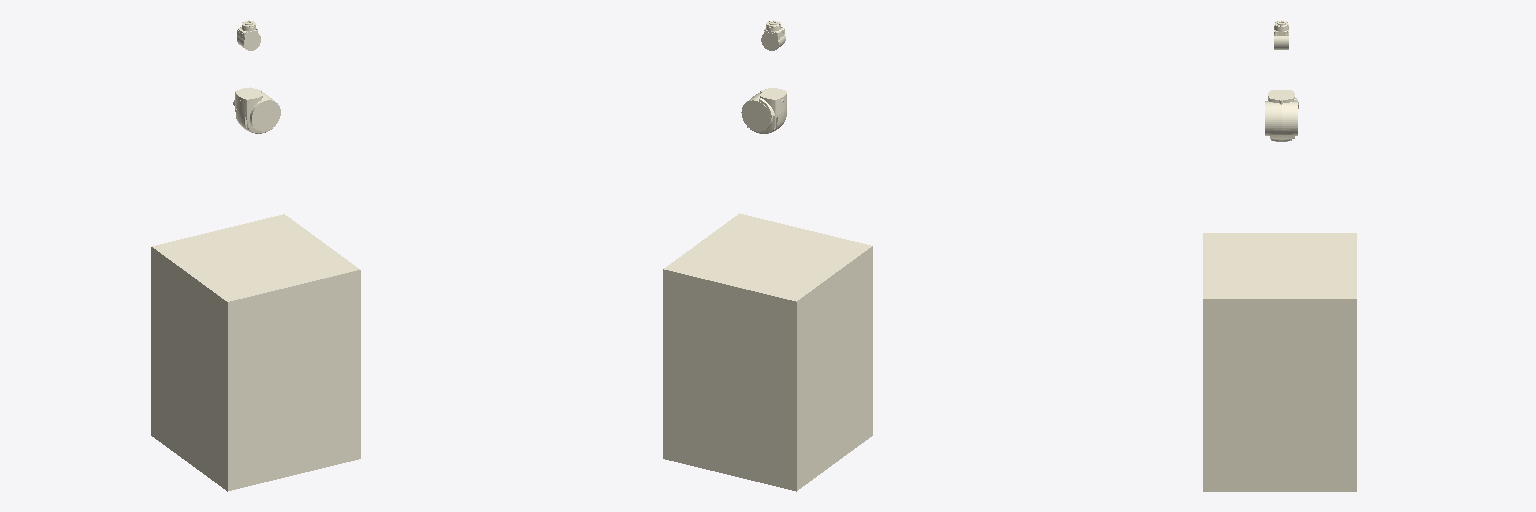
robot.urdf — rv7fr:
<?xml version="1.0" encoding="utf-8"?>
<!-- =================================================================================== -->
<!-- |    This document was autogenerated by xacro from rv7fr-dh-zero-table.urdf.xacro | -->
<!-- |    EDITING THIS FILE BY HAND IS NOT RECOMMENDED                                 | -->
<!-- =================================================================================== -->
<!--[ ] Add Gazebo plugin for ros control-->
<!--[ ] Add sensor model plugin -->
<!--[ ] Check the correct limits efforts
     [119.36611817, 107.16168698,  50.92959239,  17.00171377, 12.7323981 ,   3.97887346] -->
<!--[DONE] Check if the transmission matched the joint number -->
<robot name="rv7fr">
  <material name="white">
    <color rgba="1.0 0.980392156863 0.898039215686 1"/>
  </material>
  <material name="silver">
    <color rgba="0.61568627451 0.839215686275 0.941176470588 1"/>
  </material>
  <!--Mathematical constant
  The mathematical constant and 
  the mathematical expression in XACRO 
  URDF use Python. This preclude the
  mathematical expression
  <[End] Mathematical constant-->
  <link name="world"/>
  <link name="table">
    <visual>
      <geometry>
        <mesh filename="package://melfa_description/mesh/rv7fr/rv7fr_table.stl" scale="0.001 0.001 0.001"/>
      </geometry>
      <origin rpy="0 0 0" xyz="0 0 0"/>
      <material name="white"/>
    </visual>
    <collision>
      <origin rpy="0 0 0" xyz="0 0 0"/>
      <geometry>
        <mesh filename="package://melfa_description/mesh/rv7fr/rv7fr_table.stl" scale="0.001 0.001 0.001"/>
      </geometry>
    </collision>
    <!--inertial-->
    <!--xacro:include filename="rv7fr_inertia/base_inertial.urdf.xacro"/-->
    <!--inertial-->
  </link>
  <joint name="flooring" type="fixed">
    <parent link="world"/>
    <child link="table"/>
  </joint>
  <link name="base">
    <visual>
      <geometry>
        <mesh filename="package://melfa_description/mesh/rv7fr/dh_base.stl" scale="0.001 0.001 0.001"/>
      </geometry>
      <origin rpy="0 0 0" xyz="0 0 0"/>
      <material name="white"/>
    </visual>
    <collision>
      <origin rpy="0 0 0" xyz="0 0 0"/>
      <geometry>
        <mesh filename="package://melfa_description/mesh/rv7fr/dh_base.stl" scale="0.001 0.001 0.001"/>
      </geometry>
    </collision>
    <inertial>
      <!--origin
        xyz="-0.11257 -4.1589E-05 0.057533"
        rpy="0 0 0" /-->
      <!-- I am using the density of Alumide (1.36g/cm^3) for this -->
      <!-- The volume of the mesh is 13038.131 cm^3 -->
      <mass value="17.73185816"/>
      <inertia ixx="103.908878848" ixy="6.363055616" ixz="-6.148561408" iyy="139.111661568" iyz="2.115191296" izz="132.604526592"/>
    </inertial>
    <!--inertial-->
  </link>
  <!--Fixed joint-->
  <joint name="joint_w" type="fixed">
    <parent link="table"/>
    <child link="base"/>
    <origin rpy="0 0 0" xyz="0 0 0.955"/>
  </joint>
  <link name="link1">
    <visual>
      <origin rpy="0 0 0" xyz="0 0 0"/>
      <geometry>
        <mesh filename="package://melfa_description/mesh/rv7fr/dh_link1.stl" scale="0.001 0.001 0.001"/>
      </geometry>
      <material name="white"/>
    </visual>
    <inertial>
      <!--origin
        xyz="-0.11257 -4.1589E-05 0.057533"
        rpy="0 0 0" /-->
      <!-- I am using the density of Alumide (1.36g/cm^3) for this -->
      <!-- The volume of the mesh is 6013.742500000 cm^3 -->
      <mass value="8.1786898"/>
      <inertia ixx="90.376159232" ixy="0.016287799" ixz="-1.10389888" iyy="52.040425472" iyz="0.255685056" izz="66.680070144"/>
    </inertial>
    <!--inertial-->
    <collision>
      <origin rpy="0 0 0" xyz="0 0 0"/>
      <geometry>
        <mesh filename="package://melfa_description/mesh/rv7fr/dh_link1.stl" scale="0.001 0.001 0.001"/>
      </geometry>
    </collision>
  </link>
  <joint name="joint1" type="revolute">
    <parent link="base"/>
    <child link="link1"/>
    <origin rpy="0.0 0.0 0.0" xyz="0 0 0.225"/>
    <axis xyz="0 0 1"/>
    <!--Effort in this context is in N.m (revolute joint)-->
    <limit effort="119.36611817" lower="-4.18879020479" upper="4.18879020479" velocity="6.28318530718"/>
    <dynamics damping="0" friction="0"/>
  </joint>
  <transmission name="trans1">
    <type>transmission_interface/SimpleTransmission</type>
    <joint name="joint1">
      <hardwareInterface>PositionJointInterface</hardwareInterface>
    </joint>
    <actuator name="motor1">
      <hardwareInterface>PositionJointInterface</hardwareInterface>
      <mechanicalReduction>1</mechanicalReduction>
    </actuator>
  </transmission>
  <link name="link2">
    <visual>
      <origin rpy="0 0 0" xyz="0 0 0"/>
      <geometry>
        <mesh filename="package://melfa_description/mesh/rv7fr/dh_link2.stl" scale="0.001 0.001 0.001"/>
      </geometry>
      <material name="white"/>
    </visual>
    <inertial>
      <!--origin
        xyz="-0.11257 -4.1589E-05 0.057533"
        rpy="0 0 0" /-->
      <!-- I am using the density of Alumide (1.36g/cm^3) for this -->
      <!-- The volume of the mesh is 9326.481 cm^3 -->
      <mass value="12.68401416"/>
      <inertia ixx="51.839111168" ixy="3.830765824" ixz="-1.103037056" iyy="192.674725888" iyz="0.112871744" izz="176.385097728"/>
    </inertial>
    <!--inertial-->
    <collision>
      <origin rpy="0 0 0" xyz="0 0 0"/>
      <geometry>
        <mesh filename="package://melfa_description/mesh/rv7fr/dh_link2.stl" scale="0.001 0.001 0.001"/>
      </geometry>
    </collision>
  </link>
  <joint name="joint2" type="revolute">
    <parent link="link1"/>
    <child link="link2"/>
    <origin rpy="-1.57079632679 -1.57079632679 0.0" xyz="0 0 0.175"/>
    <axis xyz="0 0 1"/>
    <!--Effort in this context is in N.m (revolute joint)-->
    <limit effort="107.16168698" lower="-1.86750229963" upper="2.18166156499" velocity="6.9987703005"/>
    <dynamics damping="0" friction="0"/>
  </joint>
  <transmission name="trans2">
    <type>transmission_interface/SimpleTransmission</type>
    <joint name="joint2">
      <hardwareInterface>PositionJointInterface</hardwareInterface>
    </joint>
    <actuator name="motor2">
      <hardwareInterface>PositionJointInterface</hardwareInterface>
      <mechanicalReduction>1</mechanicalReduction>
    </actuator>
  </transmission>
  <link name="link3">
    <visual>
      <origin rpy="0 0 0" xyz="0 0 0"/>
      <geometry>
        <mesh filename="package://melfa_description/mesh/rv7fr/dh_link3.stl" scale="0.001 0.001 0.001"/>
      </geometry>
      <material name="white"/>
    </visual>
    <inertial>
      <!--origin
        xyz="-0.11257 -4.1589E-05 0.057533"
        rpy="0 0 0" /-->
      <!-- I am using the density of Alumide (1.36g/cm^3) for this -->
      <!-- The volume of the mesh is 3836.328250000 cm^3 -->
      <mass value="5.21740642"/>
      <inertia ixx="15.117059072" ixy="-1.406446848" ixz="-0.060891936" iyy="13.858434048" iyz="-0.067995424" izz="17.11241216"/>
    </inertial>
    <!--inertial-->
    <collision>
      <origin rpy="0 0 0" xyz="0 0 0"/>
      <geometry>
        <mesh filename="package://melfa_description/mesh/rv7fr/dh_link3.stl" scale="0.001 0.001 0.001"/>
      </geometry>
    </collision>
  </link>
  <joint name="joint3" type="revolute">
    <parent link="link2"/>
    <child link="link3"/>
    <origin rpy="0 0 -1.57079632679" xyz="0.34 0 0"/>
    <axis xyz="0 0 1"/>
    <!--Effort in this context is in N.m (revolute joint)-->
    <limit effort="50.92959239" lower="0.0" upper="2.72271363311" velocity="7.85398163397"/>
    <dynamics damping="0" friction="0"/>
  </joint>
  <transmission name="trans3">
    <type>transmission_interface/SimpleTransmission</type>
    <joint name="joint3">
      <hardwareInterface>PositionJointInterface</hardwareInterface>
    </joint>
    <actuator name="motor3">
      <hardwareInterface>PositionJointInterface</hardwareInterface>
      <mechanicalReduction>1</mechanicalReduction>
    </actuator>
  </transmission>
  <link name="link4">
    <visual>
      <origin rpy="0 0 0" xyz="0 0 0.095"/>
      <geometry>
        <mesh filename="package://melfa_description/mesh/rv7fr/dh_link4.stl" scale="0.001 0.001 0.001"/>
      </geometry>
      <material name="white"/>
    </visual>
    <inertial>
      <!--origin
        xyz="-0.11257 -4.1589E-05 0.057533"
        rpy="0 0 0" /-->
      <!-- I am using the density of Alumide (1.36g/cm^3) for this -->
      <!-- The volume of the mesh is 2815.481250000  cm^3 -->
      <mass value="3.8290545"/>
      <inertia ixx="20.911454208" ixy="0.000388218125" ixz="-0.136878256" iyy="19.643154432" iyz="0.053645312" izz="5.443939328"/>
    </inertial>
    <!--inertial-->
    <collision>
      <origin rpy="0 0 0" xyz="0 0 0.095"/>
      <geometry>
        <mesh filename="package://melfa_description/mesh/rv7fr/dh_link4.stl" scale="0.001 0.001 0.001"/>
      </geometry>
    </collision>
  </link>
  <joint name="joint4" type="revolute">
    <parent link="link3"/>
    <child link="link4"/>
    <origin rpy="-1.57079632679 0 0" xyz="0.05 0 0"/>
    <axis xyz="0 0 1"/>
    <!--Effort in this context is in N.m (revolute joint)-->
    <limit effort="16.2" lower="-3.49065850399" upper="3.49065850399" velocity="5.88175957922"/>
    <dynamics damping="0" friction="0"/>
  </joint>
  <transmission name="trans4">
    <type>transmission_interface/SimpleTransmission</type>
    <joint name="joint4">
      <hardwareInterface>PositionJointInterface</hardwareInterface>
    </joint>
    <actuator name="motor4">
      <hardwareInterface>PositionJointInterface</hardwareInterface>
      <mechanicalReduction>1</mechanicalReduction>
    </actuator>
  </transmission>
  <link name="link5">
    <visual>
      <origin rpy="0 0 0" xyz="0 0 0"/>
      <geometry>
        <mesh filename="package://melfa_description/mesh/rv7fr/dh_link5.stl" scale="0.001 0.001 0.001"/>
      </geometry>
      <material name="white"/>
    </visual>
    <inertial>
      <!--origin
        xyz="-0.11257 -4.1589E-05 0.057533"
        rpy="0 0 0" /-->
      <!-- I am using the density of Alumide (1.36g/cm^3) for this -->
      <!-- The volume of the mesh is 586.139875000 cm^3 -->
      <mass value="0.79715023"/>
      <inertia ixx="0.809056896" ixy="-0.015322087" ixz="-0.0005321248125" iyy="0.50428528" iyz="-0.000197501046875" izz="0.90484512"/>
    </inertial>
    <!--inertial-->
    <collision>
      <origin rpy="0 0 0" xyz="0 0 0"/>
      <geometry>
        <mesh filename="package://melfa_description/mesh/rv7fr/dh_link5.stl" scale="0.001 0.001 0.001"/>
      </geometry>
    </collision>
  </link>
  <joint name="joint5" type="revolute">
    <parent link="link4"/>
    <child link="link5"/>
    <origin rpy="1.57079632679 0 0" xyz="0 0 0.3695"/>
    <axis xyz="0 0 1"/>
    <!--Effort in this context is in N.m (revolute joint)-->
    <limit effort="16.2" lower="-2.09439510239" upper="2.09439510239" velocity="7.85398163397"/>
    <dynamics damping="0" friction="0"/>
  </joint>
  <transmission name="trans5">
    <type>transmission_interface/SimpleTransmission</type>
    <joint name="joint5">
      <hardwareInterface>PositionJointInterface</hardwareInterface>
    </joint>
    <actuator name="motor5">
      <hardwareInterface>PositionJointInterface</hardwareInterface>
      <mechanicalReduction>1</mechanicalReduction>
    </actuator>
  </transmission>
  <link name="link6">
    <visual>
      <origin rpy="0 0 0" xyz="0 0 0.085"/>
      <geometry>
        <mesh filename="package://melfa_description/mesh/rv7fr/dh_link6.stl" scale="0.001 0.001 0.001"/>
      </geometry>
      <material name="white"/>
    </visual>
    <inertial>
      <!--origin
        xyz="-0.11257 -4.1589E-05 0.057533"
        rpy="0 0 0" /-->
      <!-- I am using the density of Alumide (1.36g/cm^3) for this -->
      <!-- The volume of the mesh is  18.648947266 cm^3 -->
      <mass value="0.0253625682818"/>
      <inertia ixx="0.002339714" ixy="2.550886e-09" ixz="1.4813418945e-05" iyy="0.00230009425" iyz="6.07867e-09" izz="0.00342455025"/>
    </inertial>
    <!--inertial-->
    <collision>
      <origin rpy="0 0 0" xyz="0 0 0.085"/>
      <geometry>
        <mesh filename="package://melfa_description/mesh/rv7fr/dh_link6.stl" scale="0.001 0.001 0.001"/>
      </geometry>
    </collision>
  </link>
  <joint name="joint6" type="revolute">
    <parent link="link5"/>
    <child link="link6"/>
    <origin rpy="-1.57079632679 0 0" xyz="0 0 0"/>
    <axis xyz="0 0 1"/>
    <!--Effort in this context is in N.m (revolute joint)-->
    <limit effort="6.86" lower="-6.28318530718" upper="6.28318530718" velocity="12.5663706144"/>
    <dynamics damping="0" friction="0"/>
  </joint>
  <transmission name="trans6">
    <type>transmission_interface/SimpleTransmission</type>
    <joint name="joint6">
      <hardwareInterface>PositionJointInterface</hardwareInterface>
    </joint>
    <actuator name="motor6">
      <hardwareInterface>PositionJointInterface</hardwareInterface>
      <mechanicalReduction>1</mechanicalReduction>
    </actuator>
  </transmission>
  <!-- Dummy/Buffer joint for inverse kinematics -->
  <link name="link_effector"/>
  <joint name="joint_effector" type="fixed">
    <parent link="link6"/>
    <child link="link_effector"/>
    <origin rpy="0 0 0" xyz="0 0 0.085"/>
    <axis xyz="0 0 0"/>
  </joint>
  <link name="realsense_link"/>
  <joint name="realsense_sensor1" type="fixed">
    <parent link="link_effector"/>
    <child link="realsense_link"/>
    <origin rpy="0 -1.57079632679 0" xyz="0 0 0"/>
    <axis xyz="0 0 0"/>
  </joint>
  <link name="realsense_frame"/>
  <joint name="realsense_sensor2" type="fixed">
    <parent link="realsense_link"/>
    <child link="realsense_frame"/>
    <origin rpy="-1.57079632679 0 -1.57079632679" xyz="0 0 0"/>
    <axis xyz="0 0 0"/>
  </joint>
  <gazebo>
    <plugin filename="libgazebo_ros_control.so" name="gazebo_ros_control">
      <robotNamespace>/</robotNamespace>
      <robotSimType>gazebo_ros_control/DefaultRobotHWSim</robotSimType>
    </plugin>
  </gazebo>
  <gazebo reference="realsense_link">
    <sensor name="realsense_sensor" type="depth">
      <update_rate>20</update_rate>
      <camera>
        <horizontal_fov>1.047198</horizontal_fov>
        <image>
          <width>640</width>
          <height>480</height>
          <format>R8G8B8</format>
        </image>
        <clip>
          <near>0.05</near>
          <far>10</far>
        </clip>
      </camera>
      <plugin filename="libgazebo_ros_openni_kinect.so" name="realsense_controller">
        <baseline>0.2</baseline>
        <alwaysOn>true</alwaysOn>
        <updateRate>1.0</updateRate>
        <cameraName>realsense_ir</cameraName>
        <imageTopicName>/realsense/color/image_raw</imageTopicName>
        <cameraInfoTopicName>/realsense/color/camera_info</cameraInfoTopicName>
        <depthImageTopicName>/realsense/depth/image_raw</depthImageTopicName>
        <depthImageInfoTopicName>/realsense/depth/camera_info</depthImageInfoTopicName>
        <pointCloudTopicName>/realsense/depth/points</pointCloudTopicName>
        <frameName>realsense_frame</frameName>
        <pointCloudCutoff>0.05</pointCloudCutoff>
        <pointCloudCutoffMax>10.0</pointCloudCutoffMax>
        <distortionK1>0.00000001</distortionK1>
        <distortionK2>0.00000001</distortionK2>
        <distortionK3>0.00000001</distortionK3>
        <distortionT1>0.00000001</distortionT1>
        <distortionT2>0.00000001</distortionT2>
        <CxPrime>0</CxPrime>
        <Cx>0</Cx>
        <Cy>0</Cy>
        <focalLength>0</focalLength>
        <hackBaseline>0</hackBaseline>
      </plugin>
    </sensor>
  </gazebo>
</robot>

--- What the picture shows (computed from the rendered views, not written in the file) ---
The picture shows the robot from 3 angles, left to right: view 1: azimuth 30°, elevation 25°; view 2: azimuth 150°, elevation 25°; view 3: azimuth 270°, elevation 25°; orthographic projection.
Robot: rv7fr — 12 links, 11 joints (6 revolute, 5 fixed); root link world; default pose: every joint at zero.
Visible links, largest first — view 1: table, link3; view 2: table, link3, link5; view 3: table, link3.
Boxes of the visible links, x1=… form: table: x1=151, y1=214, x2=360, y2=491; link3: x1=233, y1=87, x2=280, y2=133; table: x1=663, y1=213, x2=872, y2=491; link3: x1=741, y1=88, x2=786, y2=133; link5: x1=761, y1=21, x2=785, y2=50; table: x1=1203, y1=233, x2=1356, y2=491; link3: x1=1265, y1=90, x2=1298, y2=141.
Size in the robot's own frame: 0.702 by 0.695 by 2.15 metres.
Meshes: 8 distinct files referenced, 4 mesh visuals loaded (4 binary STL); not drawn: 4 (reference not matched to a file when rendering).